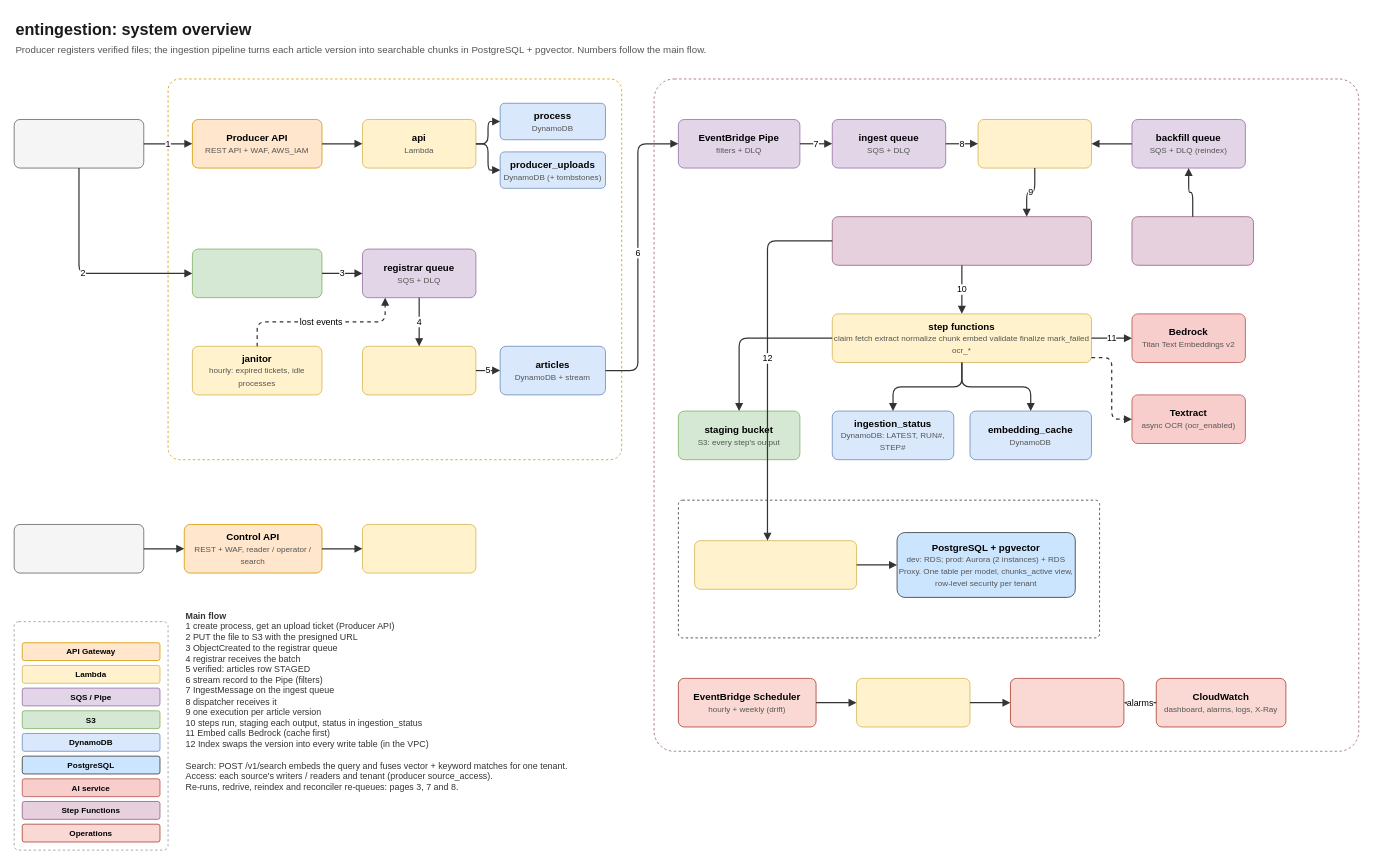
Image size: 1373x864. Some labels were removed from this diagram. The shapes that lost their labels are listed below. From the top down, each one's box as (x1, y1, x2, y2) in pixels, then its label:
(13, 119, 144, 168): Client / producer-cli SigV4 (IAM)
(977, 119, 1091, 168): dispatcher Lambda: dedupe by name
(831, 216, 1091, 265): ingest state machine Step Functions: Claim, Fetch ... Index, Finalize
(1131, 216, 1253, 265): reindex state machine Distributed Map
(192, 248, 322, 298): raw bucket S3 raw/{article}/{upload}/file
(167, 78, 622, 460): Producer stack (terraform/stacks/producer)
(362, 345, 476, 395): registrar Lambda: verify size + SHA-256
(653, 78, 1359, 751): Ingestion stack (terraform/stacks/ingestion)
(13, 524, 144, 573): Operator Bruno, awscurl, scripts
(362, 524, 476, 573): control_api status, re-run, reindex, search
(694, 540, 857, 589): index / query / tables / migrate Lambdas in VPC, IAM DB auth
(678, 499, 1100, 638): VPC (private subnets, no NAT)
(856, 678, 970, 727): reconciler Lambda
(1010, 678, 1124, 727): alerts topic SNS (KMS)
(13, 621, 168, 850): Legend
